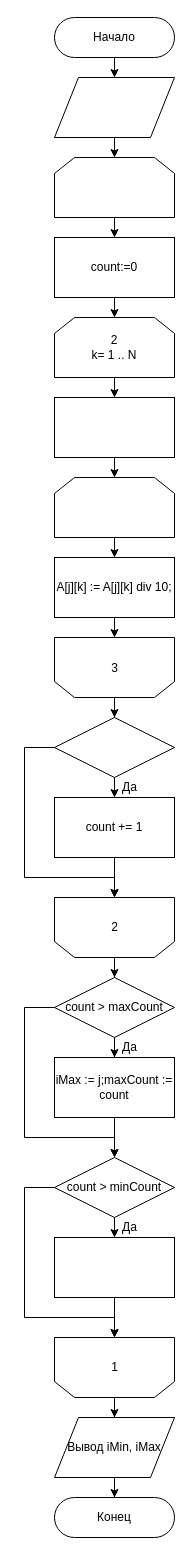
This 192x1555 diagram has some shape labels left out. The centre of each missing label's shape, as x and y in pixels:
1 j= 1 .. N: point (114, 187)
3 A[j][k] > 9: point (114, 507)
A[j][k] = LastDigit: point (114, 747)
iMin := j;minCount := count: point (114, 1267)
LastDigit := A[j][k] mod 10;: point (114, 427)
Ввод N, A[j][k]: point (114, 107)
